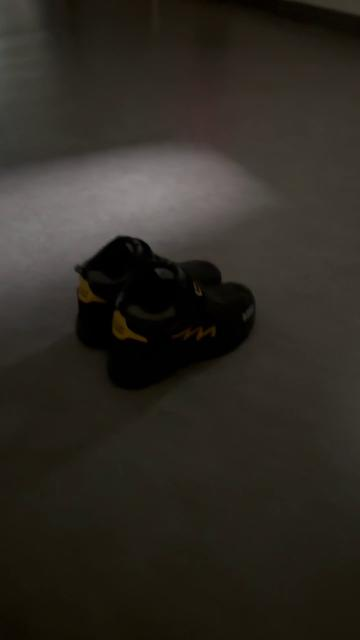shoe_worn: (73, 236, 223, 348), (107, 281, 258, 392)
